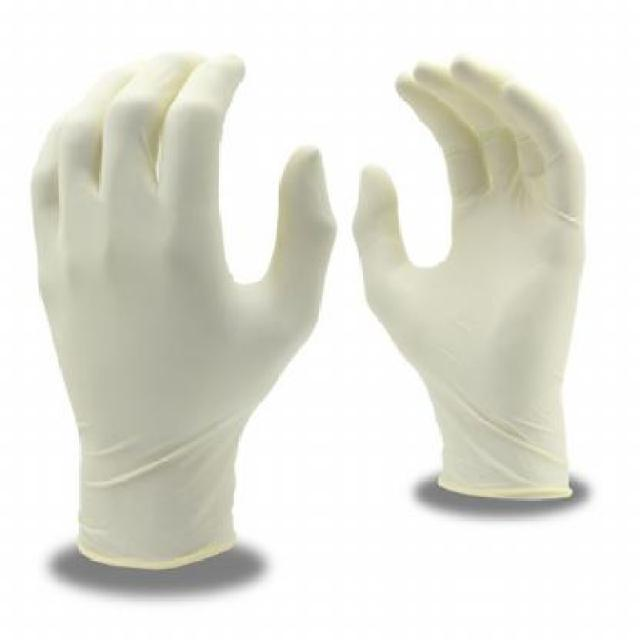gloved_hand: (35, 34, 338, 568), (348, 49, 596, 540)
